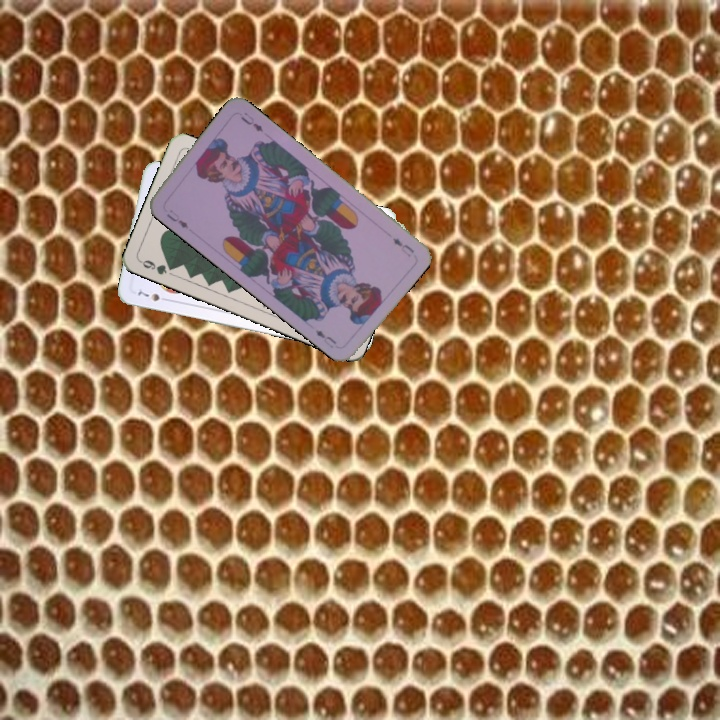EU: (388, 233, 417, 259), (162, 206, 191, 231)
G9: (136, 256, 178, 277)
S7: (134, 287, 172, 304)
